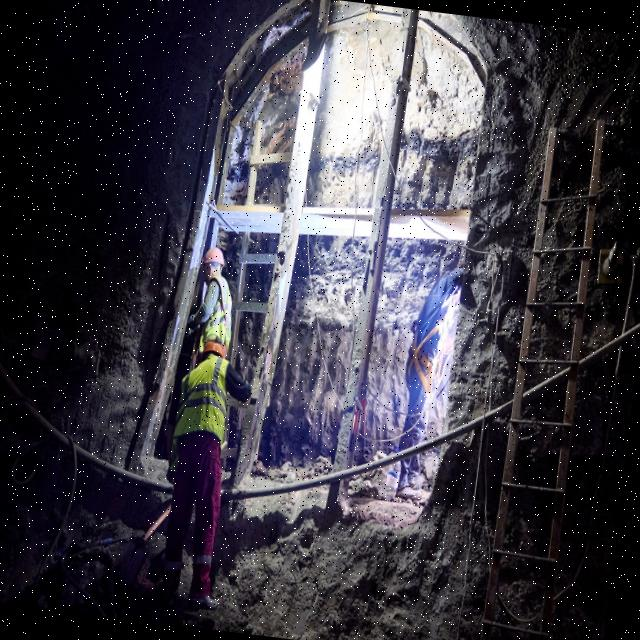Helmet: (202, 246, 229, 271), (202, 337, 230, 359)
Jacket: (178, 355, 233, 443), (199, 277, 235, 338)
